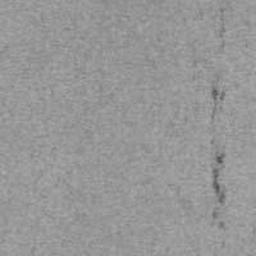Inclusion: (209, 150, 225, 204), (207, 78, 228, 119), (216, 6, 228, 49), (211, 209, 224, 230)
